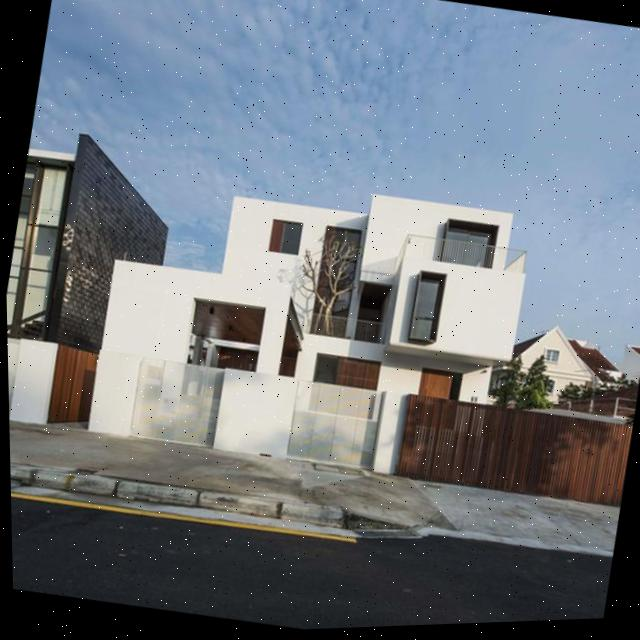building: (79, 139, 537, 507), (2, 104, 194, 373), (502, 287, 640, 429)
